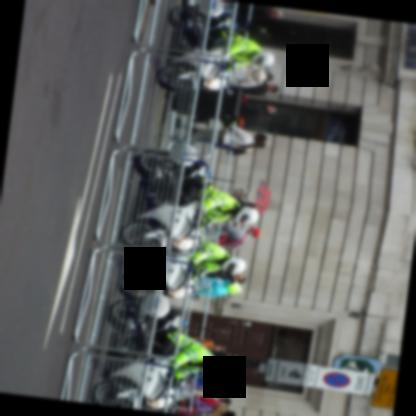backpack: (216, 232, 245, 249), (174, 400, 196, 415), (226, 147, 245, 154)
